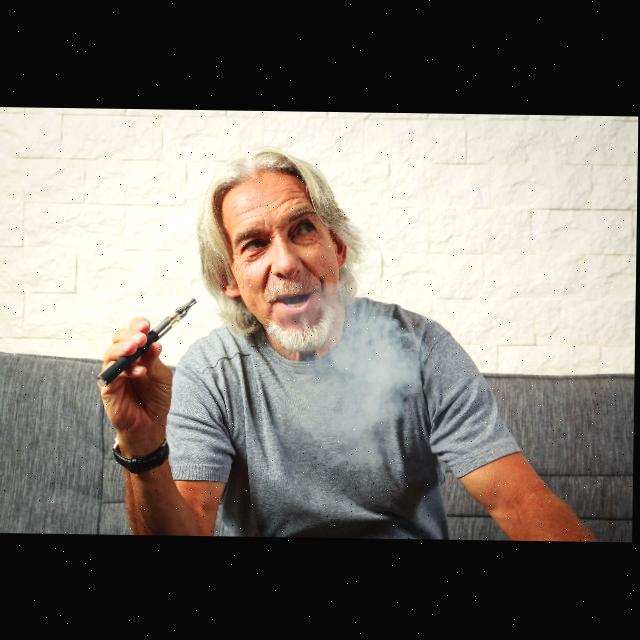vape: (98, 296, 198, 387)
